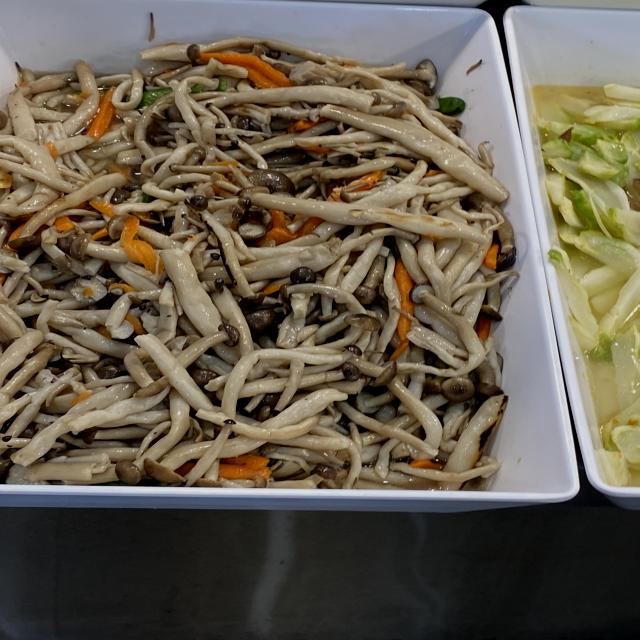brown swordbelt: (8, 88, 437, 448)
